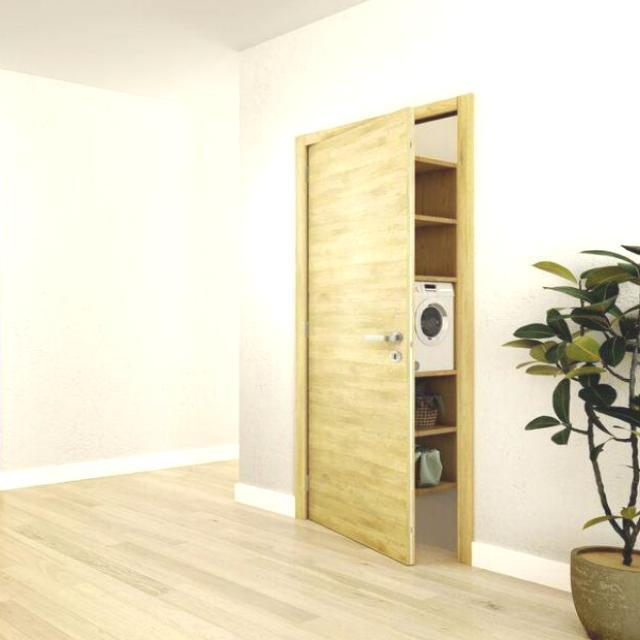door: (290, 106, 426, 572)
